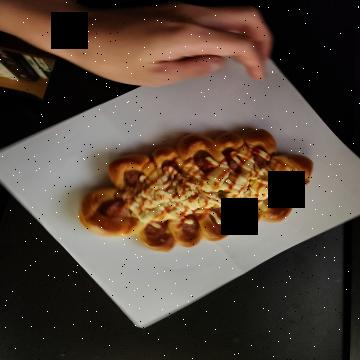pizza_bread: (122, 50, 244, 285)
